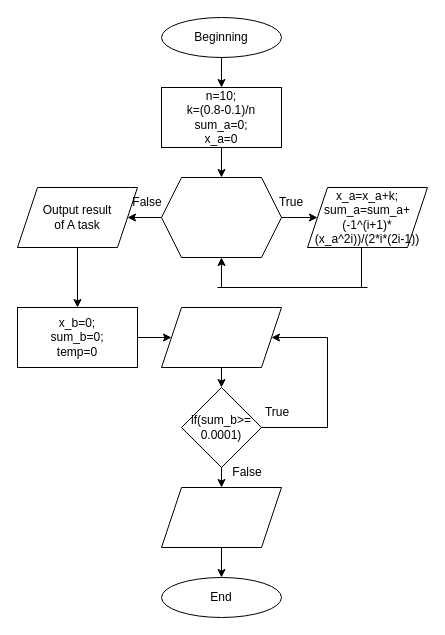
Some shapes in this 445 by 635 pixel diagram are drawn without their labels. The box of each missing label's shape, as (x1, y1, x2, y2) in pixels:
for(int i=0; i<=n; i++): (160, 176, 282, 258)
Output result of B task: (160, 486, 282, 548)
x_b=x_b+k; temp=temp+1; sum_b=sum_b+(-1^(temp+1)*x_b^2temp) /(2*temp*(2temp-1)): (160, 306, 282, 368)
